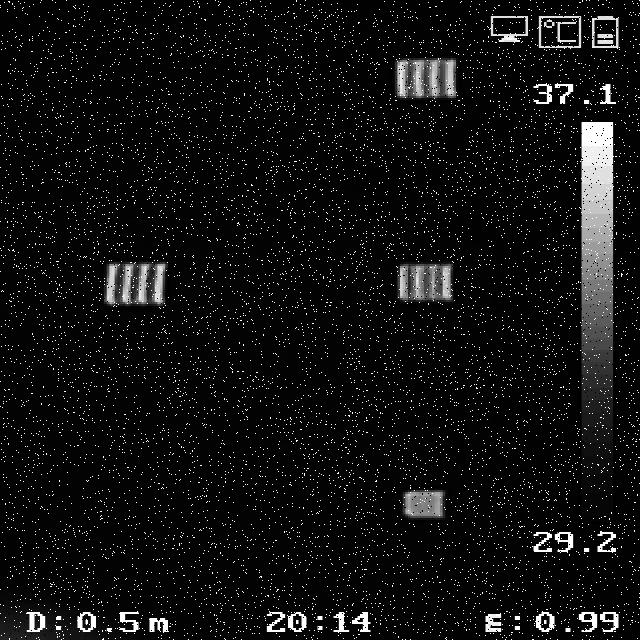Distinguishable 4-bar target: (102, 264, 170, 306), (398, 56, 458, 99), (396, 262, 456, 301)
Indistinguishable 4-bar target: (404, 491, 444, 517)
